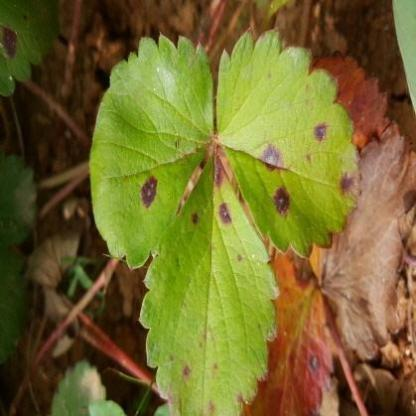Strawberry_Leaf_Spot: (138, 144, 282, 416), (216, 25, 362, 260), (89, 31, 218, 270), (243, 234, 335, 415), (0, 0, 62, 98)
